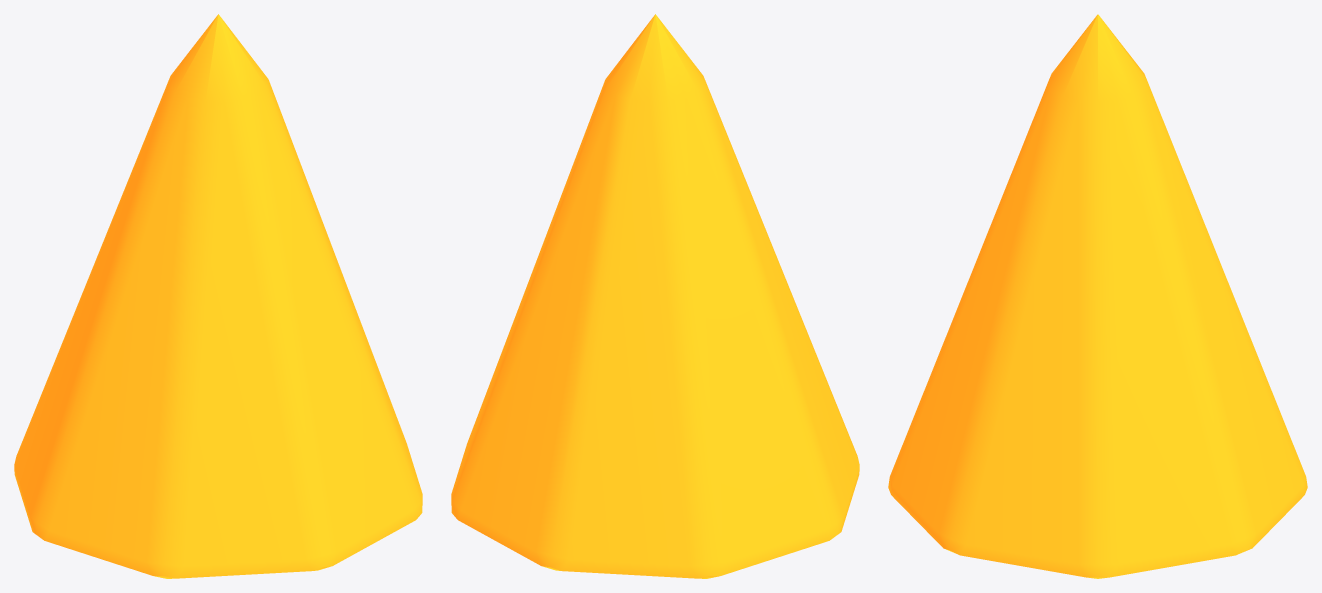
The model's file is fx_flame_outer.glb.
3 views of the same model, side by side, from view 1: azimuth 30°, elevation 25°; view 2: azimuth 150°, elevation 25°; view 3: azimuth 270°, elevation 25° (orthographic).
Parts seen in each view (by area): view 1: fx_flame_outer; view 2: fx_flame_outer; view 3: fx_flame_outer.
Boxes of the visible parts, x1,y1,x2,y2 form: fx_flame_outer: (14,14,422,578); fx_flame_outer: (451,14,859,578); fx_flame_outer: (888,14,1307,578).
Size of the model in its own units: 0.3046 by 0.3856 by 0.3046.
